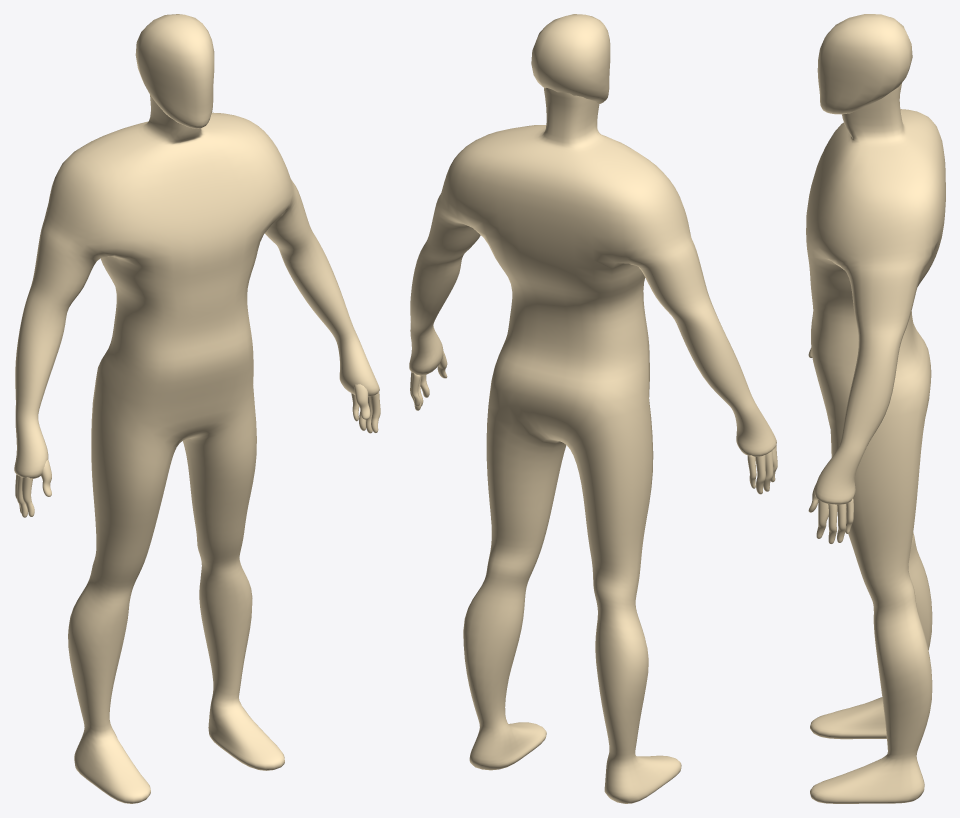
The model's file is BaseMesh.glb.
3 views of the same model, side by side, from view 1: azimuth 30°, elevation 25°; view 2: azimuth 150°, elevation 25°; view 3: azimuth 270°, elevation 25° (orthographic).
Parts seen in each view (by area): view 1: node_id5; view 2: node_id5; view 3: node_id5.
Boxes of the visible parts, x1=… form: node_id5: x1=14, y1=14, x2=380, y2=803; node_id5: x1=409, y1=14, x2=777, y2=803; node_id5: x1=806, y1=14, x2=945, y2=803.
Bounding box in the file's own units: 0.2569 × 0.512 × 0.0867.
Materials: 1 (1 with a texture image).
